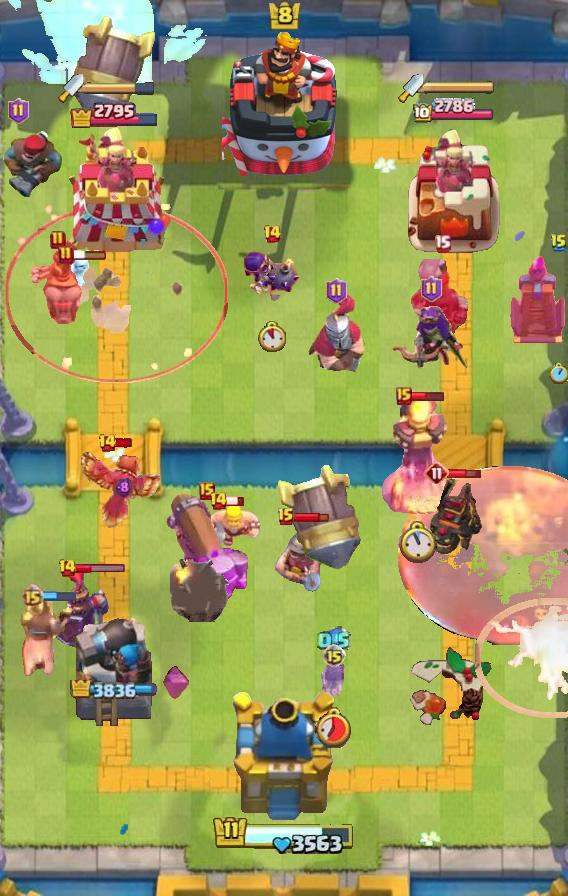archer: (201, 502, 265, 548)
archer-evolution: (424, 476, 484, 556)
baby-dragon: (171, 559, 230, 621)
bandit: (273, 522, 329, 592)
bar: (55, 126, 173, 256), (403, 124, 503, 256)
barbarian-evolution: (476, 597, 568, 719)
barbarian-hut: (390, 304, 472, 380)
clock: (212, 815, 356, 857)
electro-dragon: (379, 395, 457, 521)
electro-spirit: (317, 626, 351, 656), (115, 477, 133, 499)
elite-barbarian: (27, 240, 89, 334)
elixir: (314, 706, 354, 748), (399, 521, 437, 564), (258, 321, 286, 351), (548, 364, 567, 385)
elixir-golem-big: (53, 566, 109, 654)
emote: (74, 563, 125, 574), (446, 468, 481, 481), (43, 590, 78, 603), (72, 249, 108, 261), (410, 390, 446, 402), (295, 511, 330, 523), (114, 437, 134, 449), (225, 495, 245, 507)
freeze: (17, 594, 79, 676)
furnace: (162, 492, 252, 606)
goblin: (319, 663, 349, 701)
goblin-ball: (242, 249, 302, 305)
golden-knight: (80, 446, 166, 528)
guard: (4, 204, 227, 384)
heal-spirit: (65, 254, 93, 288)
ice-spirit-evolution-symbol: (508, 253, 568, 345)
inferno-dragon: (411, 246, 473, 356)
king-tower: (222, 31, 346, 181), (227, 692, 341, 826)
king-tower-bar: (424, 80, 496, 94), (84, 81, 156, 95)
mega-knight: (2, 0, 218, 106)
phoenix-egg: (398, 465, 568, 645)
phoenix-small: (0, 129, 66, 199)
selected: (68, 100, 159, 128), (413, 98, 496, 126), (70, 680, 158, 699)
skeleton-king-skill: (162, 665, 190, 701)
text: (425, 461, 449, 485), (322, 644, 346, 668), (7, 98, 28, 124), (421, 276, 442, 302), (325, 278, 346, 304), (20, 585, 43, 608), (262, 224, 281, 244), (99, 433, 118, 453), (209, 491, 228, 511), (58, 558, 77, 578), (550, 233, 568, 253), (277, 507, 295, 527), (433, 234, 451, 253), (50, 230, 66, 250), (58, 245, 74, 265), (396, 387, 412, 405), (199, 482, 215, 500)
tower-bar: (71, 611, 157, 731)
wall-breaker-evolution: (306, 294, 366, 374)
x-bow: (72, 14, 156, 122), (277, 462, 361, 570)
